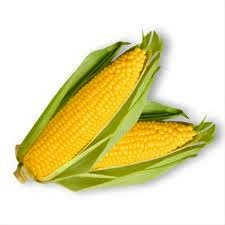corn: (16, 37, 159, 185), (57, 122, 212, 189)
